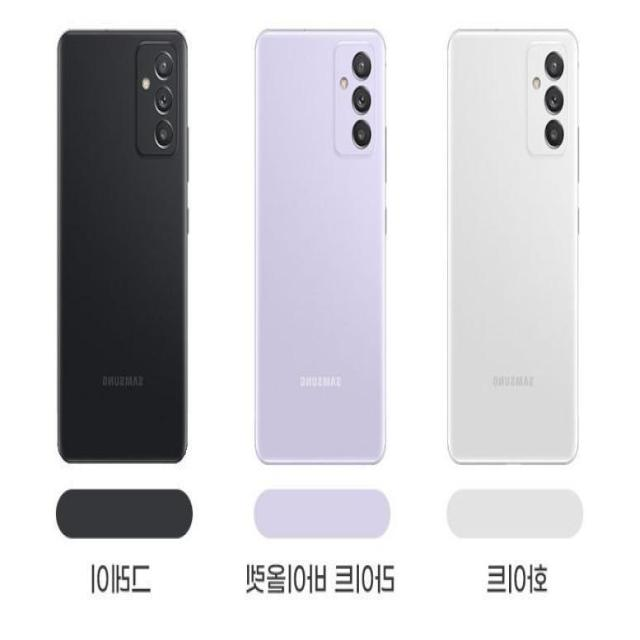mobile: (447, 28, 582, 466), (254, 28, 388, 468), (56, 29, 190, 464)
